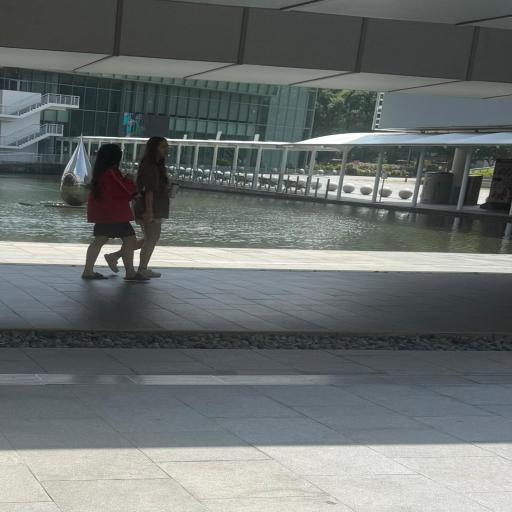person_right: (104, 136, 173, 278), (81, 143, 150, 282), (81, 143, 150, 281)
